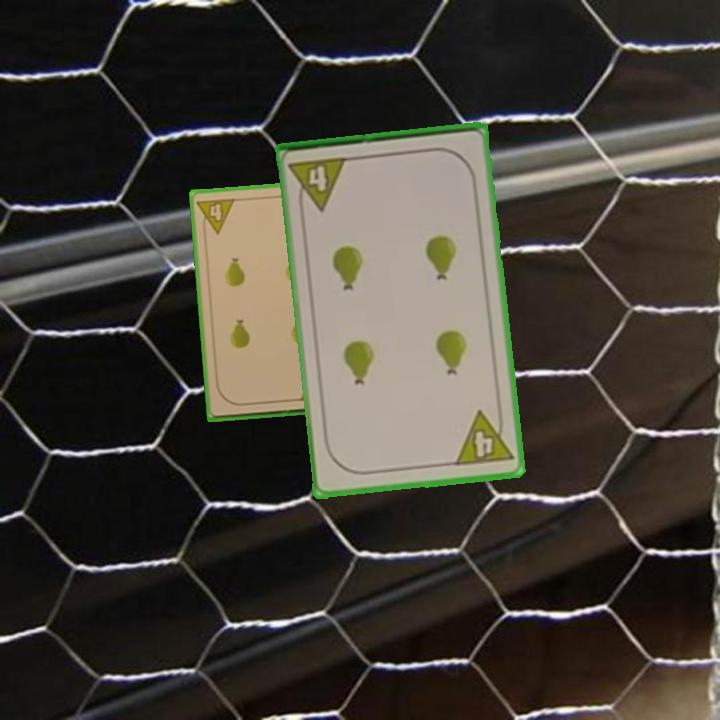4p: (451, 405, 516, 469), (285, 153, 351, 215), (193, 195, 238, 237)
